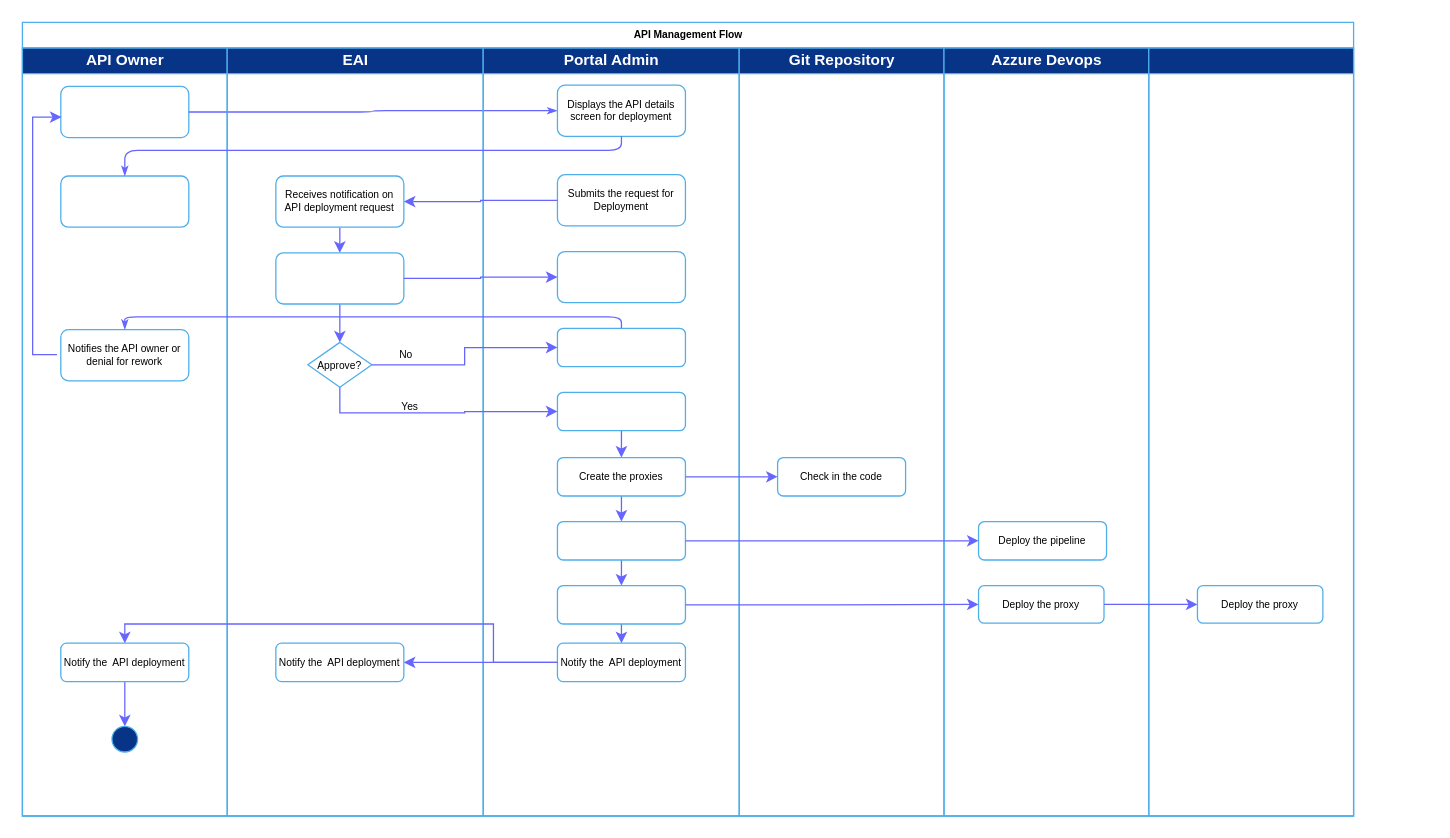
Some shapes in this 1450 by 838 pixel diagram are drawn without their labels. Each missing label, with the box of its shape:
Access API for deploying API to external portal: (60, 85, 189, 138)
APIM: (1148, 47, 1354, 816)
Approve the request: (556, 391, 685, 431)
Create the CI / CD Pipeline: (556, 520, 685, 560)
Deny the request: (556, 327, 685, 367)
Fills the information needed for deploying the API: (60, 175, 189, 227)
Logs into the API management portal to view the request: (275, 252, 404, 304)
Trigger Proxy Deployment: (556, 584, 685, 624)
Views the API request: (556, 250, 685, 303)
